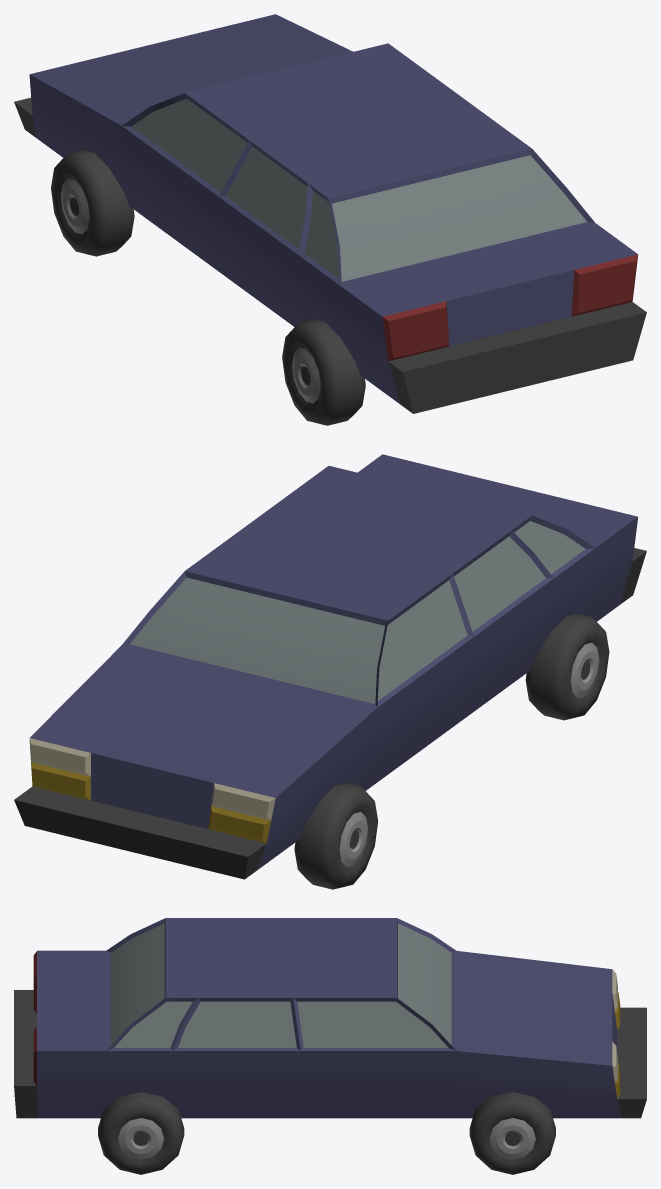
Rendered from PS_Car02.fbx.
3 views of the same model, one above another, from view 1: azimuth 30°, elevation 25°; view 2: azimuth 150°, elevation 25°; view 3: azimuth 270°, elevation 25° (orthographic). The views are drawn at different scales.
Parts seen in each view (by area): view 1: PS_Car02; view 2: PS_Car02; view 3: PS_Car02.
Boxes of the visible parts, x1,y1,x2,y2 form: PS_Car02: (14,14,646,425); PS_Car02: (14,454,646,889); PS_Car02: (14,918,646,1174).
Bounding box in the file's own units: 1.91 × 1.32 × 4.59.
